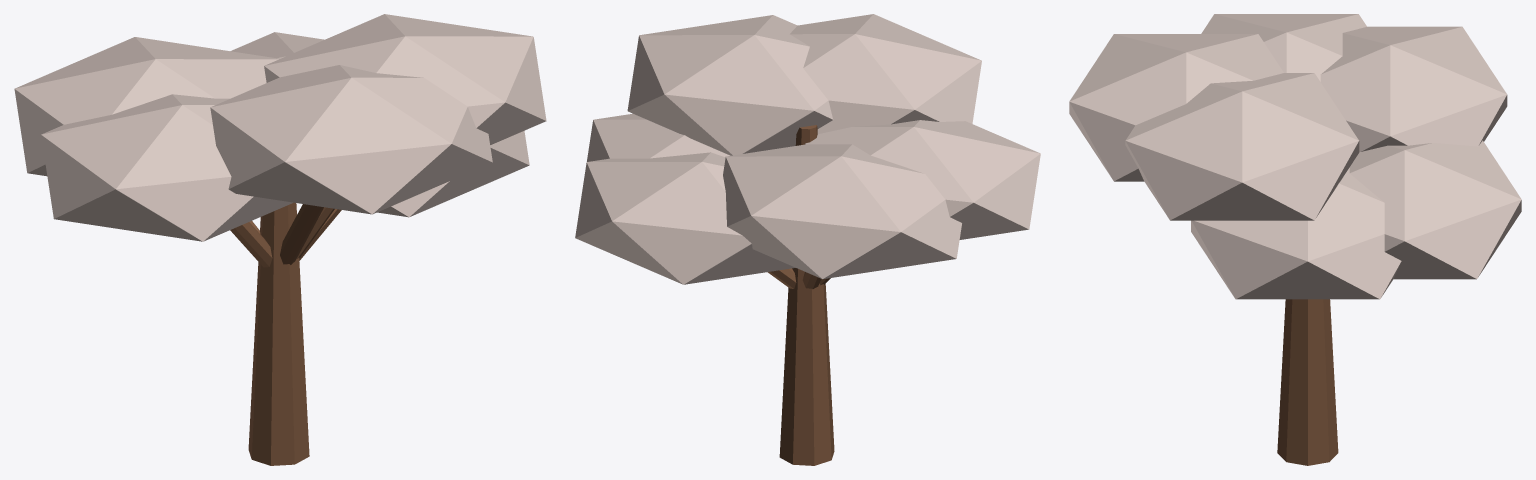
Rendered from nature_cherry_white.glb.
3 views of the same model, side by side, from view 1: azimuth 30°, elevation 25°; view 2: azimuth 150°, elevation 25°; view 3: azimuth 270°, elevation 25° (orthographic). The views are drawn at different scales.
Parts seen in each view (by area): view 1: nature_cherry_white; view 2: nature_cherry_white; view 3: nature_cherry_white.
Boxes of the visible parts, x1=… form: nature_cherry_white: x1=14, y1=14, x2=546, y2=465; nature_cherry_white: x1=575, y1=14, x2=1040, y2=465; nature_cherry_white: x1=1069, y1=14, x2=1521, y2=465.
Bounding box in the file's own units: 3.47 × 2.93 × 2.96.
